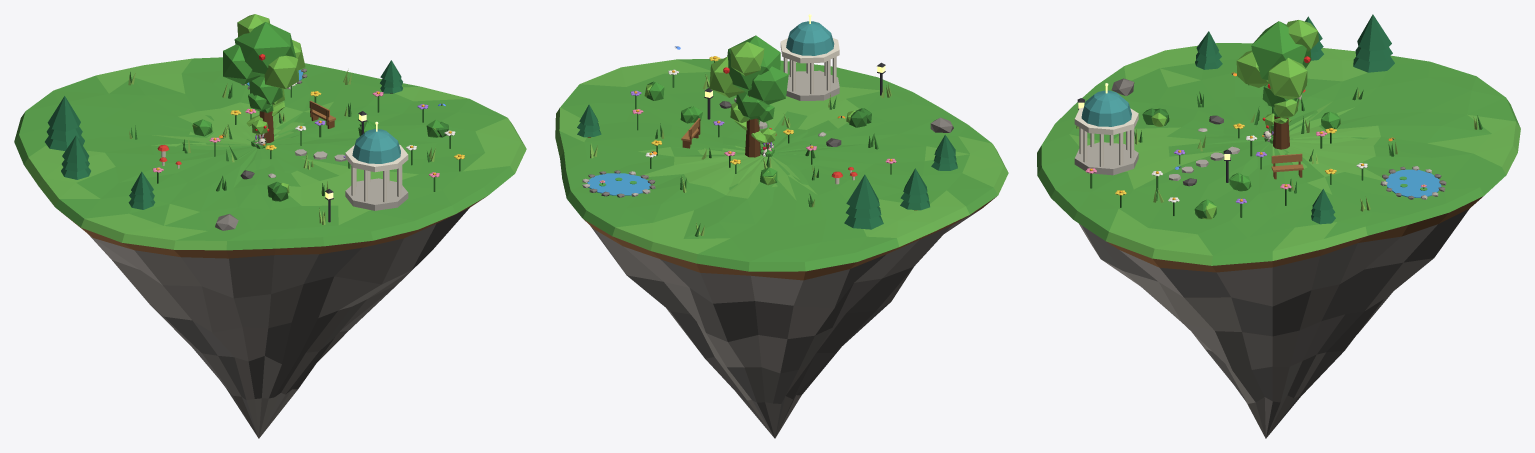
Rendered from island.glb.
3 renders of one model, left to right at view 1: azimuth 30°, elevation 25°; view 2: azimuth 150°, elevation 25°; view 3: azimuth 270°, elevation 25°, orthographic. The views are drawn at different scales.
Parts seen in each view (by area): view 1: s08-99__island_large, s06-99__tree_mature, s10-99__pavilion, s04-07__island_medium, s08-99__pine_0, s08-99__pine_1, s03-05__tree_young, s08-99__pine_2, s08-99__pine_3; view 2: s08-99__island_large, s06-99__tree_mature, s10-99__pavilion, s04-07__island_medium, s09-99__pond, s08-99__pine_0, s03-05__tree_young, s08-99__pine_1, s08-99__pine_2, s08-99__pine_3; view 3: s08-99__island_large, s06-99__tree_mature, s10-99__pavilion, s04-07__island_medium, s08-99__pine_0, s09-99__pond, s08-99__pine_2, s03-05__tree_young, s08-99__pine_3, s06-99__bench.
Boxes of the visible parts, x1,y1,x2,y2 form: s08-99__island_large: [14, 57, 526, 438]; s06-99__tree_mature: [223, 14, 305, 143]; s10-99__pavilion: [345, 121, 408, 210]; s04-07__island_medium: [176, 115, 319, 178]; s08-99__pine_0: [45, 96, 84, 150]; s08-99__pine_1: [61, 135, 90, 179]; s03-05__tree_young: [248, 76, 284, 111]; s08-99__pine_2: [128, 171, 155, 209]; s08-99__pine_3: [380, 60, 402, 93]; s08-99__island_large: [555, 58, 1008, 438]; s06-99__tree_mature: [709, 35, 788, 157]; s10-99__pavilion: [780, 14, 839, 100]; s04-07__island_medium: [697, 128, 840, 190]; s09-99__pond: [582, 170, 655, 197]; s08-99__pine_0: [844, 174, 883, 229]; s03-05__tree_young: [730, 92, 774, 122]; s08-99__pine_1: [900, 168, 929, 210]; s08-99__pine_2: [931, 135, 957, 170]; s08-99__pine_3: [577, 104, 601, 137]; s08-99__island_large: [1037, 43, 1520, 438]; s06-99__tree_mature: [1236, 20, 1318, 149]; s10-99__pavilion: [1074, 83, 1138, 175]; s04-07__island_medium: [1199, 110, 1368, 168]; s08-99__pine_0: [1353, 14, 1394, 72]; s09-99__pond: [1380, 166, 1446, 199]; s08-99__pine_2: [1195, 31, 1222, 69]; s03-05__tree_young: [1262, 84, 1297, 118]; s08-99__pine_3: [1311, 189, 1335, 224]; s06-99__bench: [1271, 153, 1303, 179].
Bounding box in the file's own units: 5.98 × 5.46 × 5.63.
